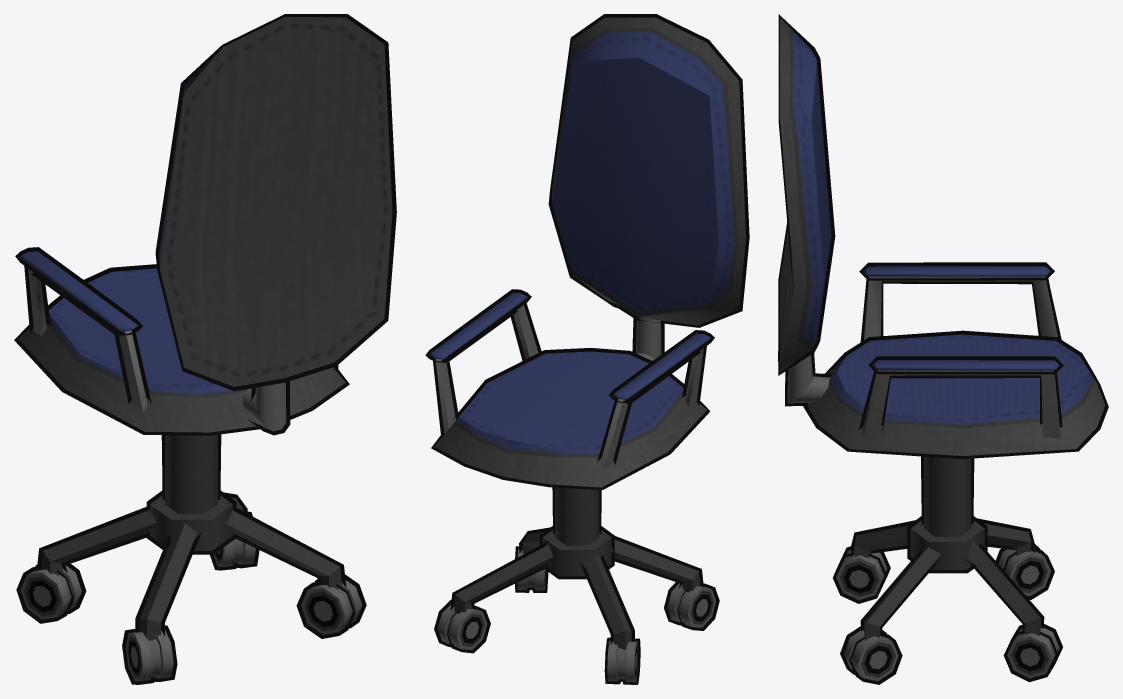
File: Cadeira.glb
3 views of the same model, side by side, from view 1: azimuth 30°, elevation 25°; view 2: azimuth 150°, elevation 25°; view 3: azimuth 270°, elevation 25° (orthographic). The views are drawn at different scales.
Visible parts, largest first — view 1: Cadeira; view 2: Cadeira; view 3: Cadeira.
Boxes of the visible parts, x1=… form: Cadeira: x1=14, y1=14, x2=396, y2=684; Cadeira: x1=425, y1=14, x2=749, y2=684; Cadeira: x1=778, y1=14, x2=1108, y2=684.
Bounding box in the file's own units: 0.4871 × 1.28 × 0.6315.
2 materials, 1 textured.
